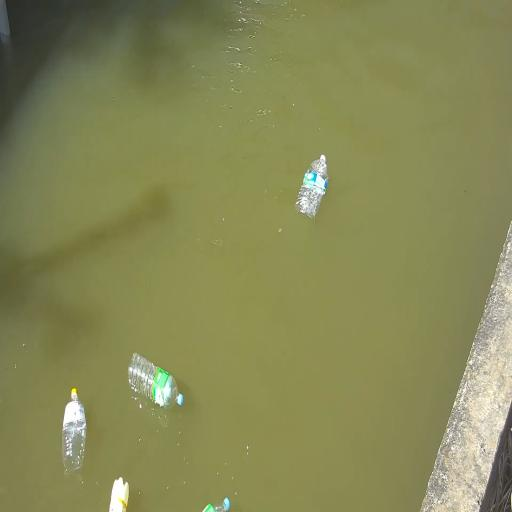plastic: (128, 353, 183, 407), (296, 155, 327, 218), (63, 388, 86, 471), (110, 477, 129, 511), (203, 497, 230, 511)
